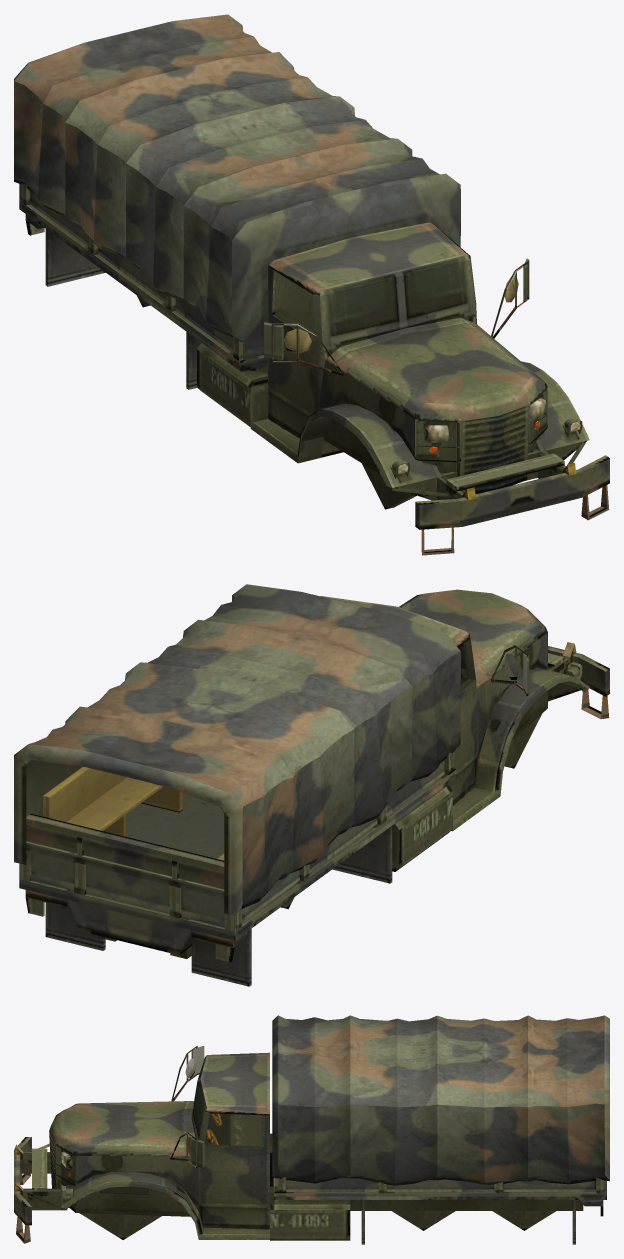
The model's file is TruckAdjusted.fbx.
3 renders of one model, top to bottom at view 1: azimuth 30°, elevation 25°; view 2: azimuth 150°, elevation 25°; view 3: azimuth 270°, elevation 25°, orthographic. The views are drawn at different scales.
Parts seen in each view (by area): view 1: VEHICLE_Army Troop Truck; view 2: VEHICLE_Army Troop Truck; view 3: VEHICLE_Army Troop Truck.
Part boxes in pixels (x1,y1,x2,y2): VEHICLE_Army Troop Truck: (14, 14, 609, 555); VEHICLE_Army Troop Truck: (14, 584, 609, 986); VEHICLE_Army Troop Truck: (14, 1015, 609, 1244).
Size of the model in its own units: 1.39 by 1.14 by 3.62.
1 material, 1 textured.
